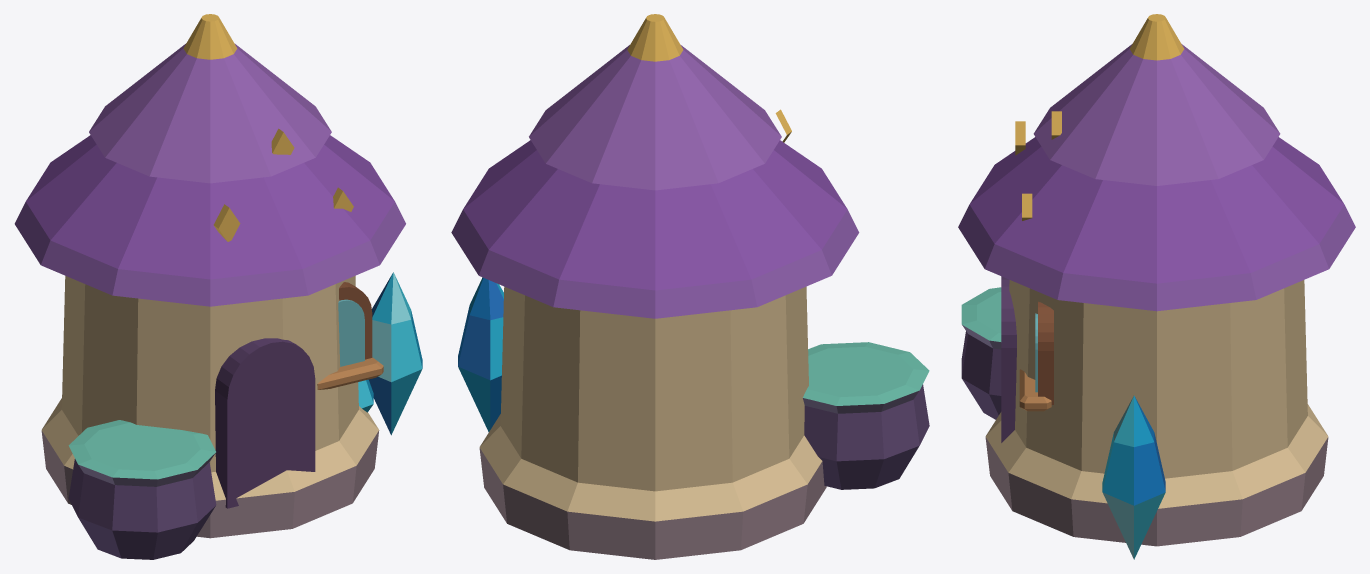
The model's file is lab.glb.
3 renders of one model, left to right at view 1: azimuth 30°, elevation 25°; view 2: azimuth 150°, elevation 25°; view 3: azimuth 270°, elevation 25°, orthographic. The views are drawn at different scales.
Parts seen in each view (by area): view 1: Base, Upgrade2, Upgrade3; view 2: Base, Upgrade2, Upgrade3; view 3: Base, Upgrade3, Upgrade2.
Part boxes in pixels (x1,y1,x2,y2): Base: (14,14,405,538); Upgrade2: (68,420,216,559); Upgrade3: (358,272,422,435); Base: (451,14,859,559); Upgrade2: (803,342,929,489); Upgrade3: (458,277,503,432); Base: (958,14,1355,546); Upgrade3: (1102,395,1165,559); Upgrade2: (961,287,1001,419).
Bounding box in the file's own units: 2.02 × 2.21 × 1.74.
